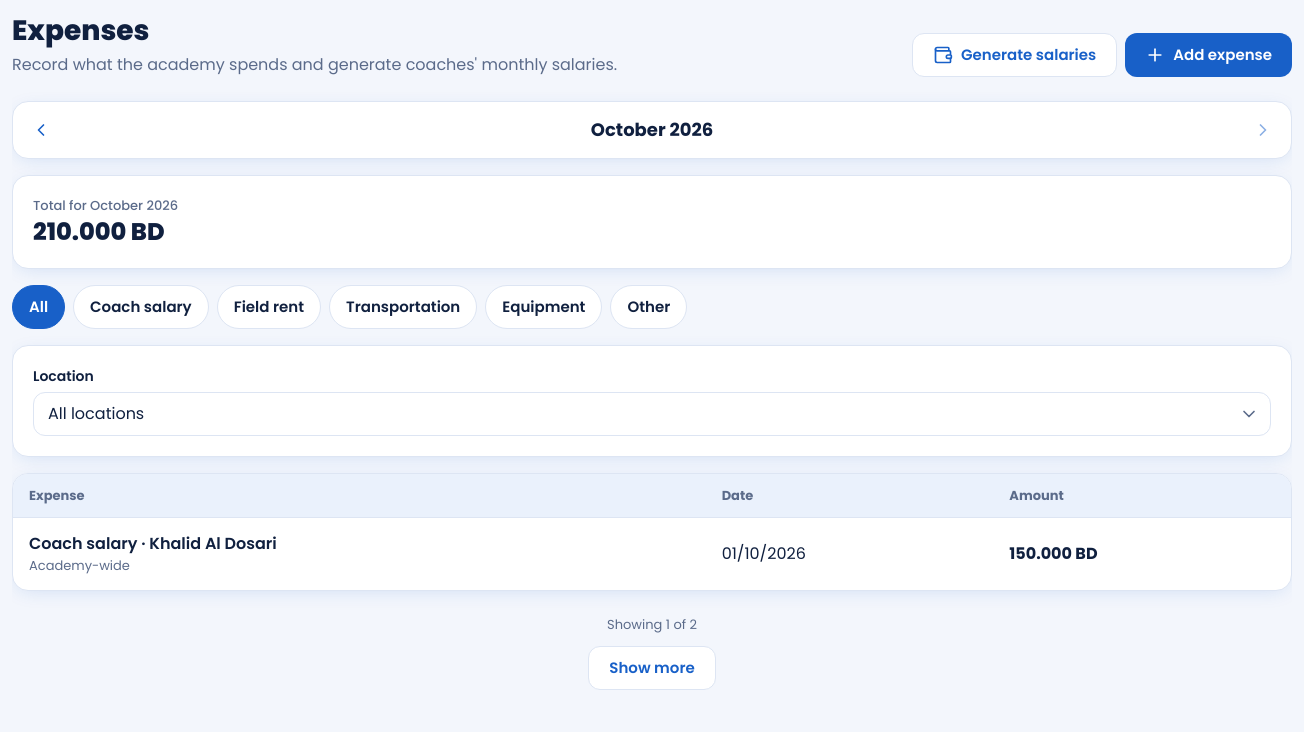
Scenario: ExpensesPage › offers "show more" when the month has more expenses than one page
Check: the text "Showing 1 of 2" is shown, box [607,615,697,634]
What coordinates should you click on to do the following:
click the button "Show more"
I would click on:
 (652, 668)
Its box is [588,646,716,690].
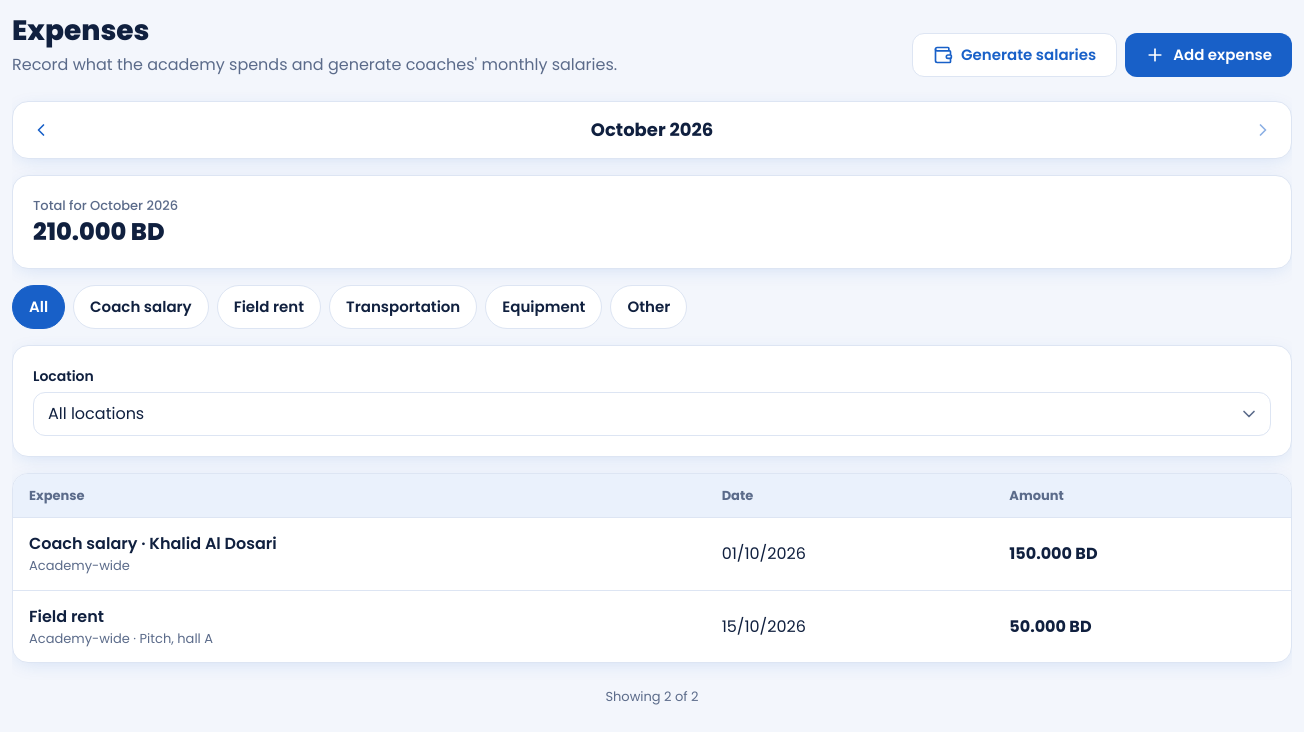
Check: the text "Showing 2 of 2" is shown, box [605,687,699,707]
